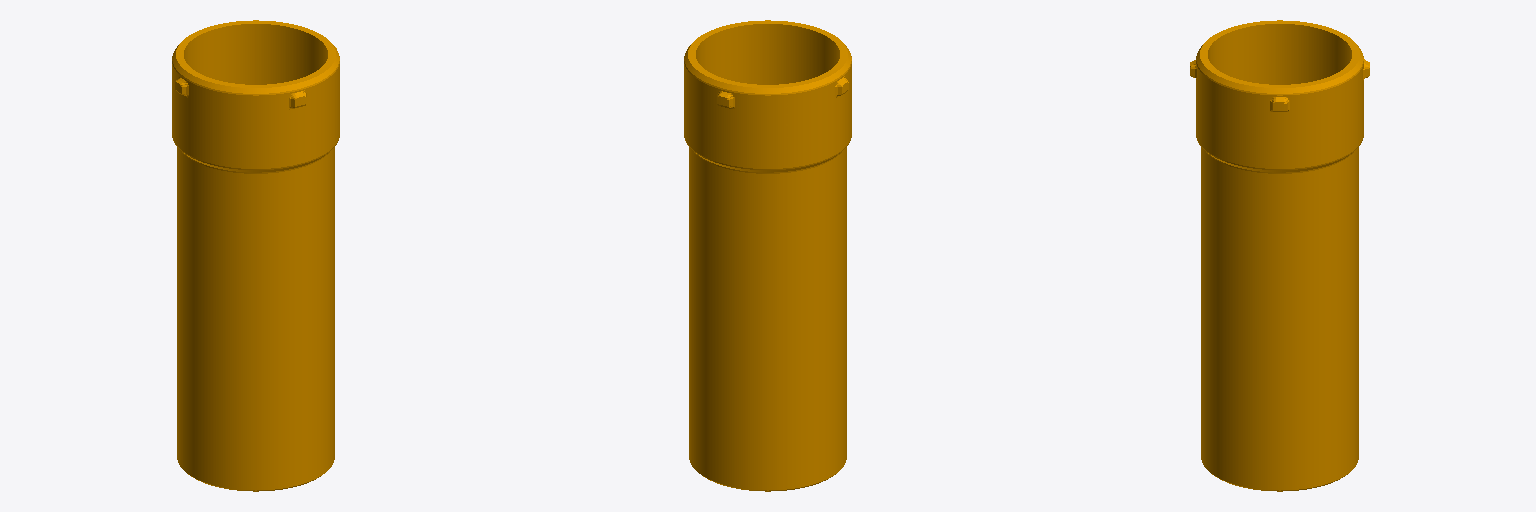
URDF robot description (rh56_shaker_body):
<?xml version="1.0"?>
<!-- generated by generate_shaker.py (profile=sim) -->
<robot name="rh56_shaker_body">
  <link name="body">
    <!-- origin = bottom centre, rim at z=170.0 mm -->
    <inertial>
      <origin xyz="-0.000000 0.000000 0.082567" rpy="0 0 0"/>
      <mass value="0.13264"/>
      <inertia ixx="4.8684e-04" ixy="0" ixz="0" iyy="4.8684e-04" iyz="0" izz="1.0399e-04"/>
    </inertial>
    <visual><geometry><mesh filename="../../meshes/sim/rh56_shaker_body.stl" scale="0.001 0.001 0.001"/></geometry></visual>
    <collision><geometry><mesh filename="../../meshes/sim/rh56_shaker_body.stl" scale="0.001 0.001 0.001"/></geometry></collision>
  </link>
</robot>

--- What the picture shows (computed from the rendered views, not written in the file) ---
3 views of the same robot in one strip: view 1: azimuth 30°, elevation 25°; view 2: azimuth 150°, elevation 25°; view 3: azimuth 270°, elevation 25° (orthographic).
Robot: rh56_shaker_body — 1 links, 0 joints (none); root link body; default pose: all joints at 0.
Visible links, largest first — view 1: body; view 2: body; view 3: body.
Link boxes in pixels (x1,y1,x2,y2): body: [172, 20, 339, 491]; body: [684, 20, 851, 491]; body: [1190, 20, 1369, 491].
Bounding box of the posed robot: 0.0684 × 0.0684 × 0.17 m (x, y, z).
1 mesh visuals loaded from 1 distinct referenced files (1 binary STL).
